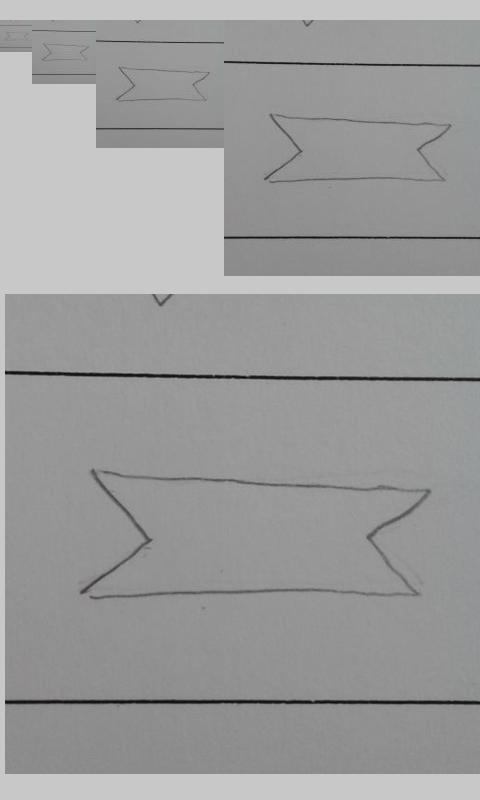edit_text: (80, 464, 431, 600), (265, 113, 451, 185), (116, 66, 210, 103), (41, 43, 89, 62), (5, 31, 30, 42)
